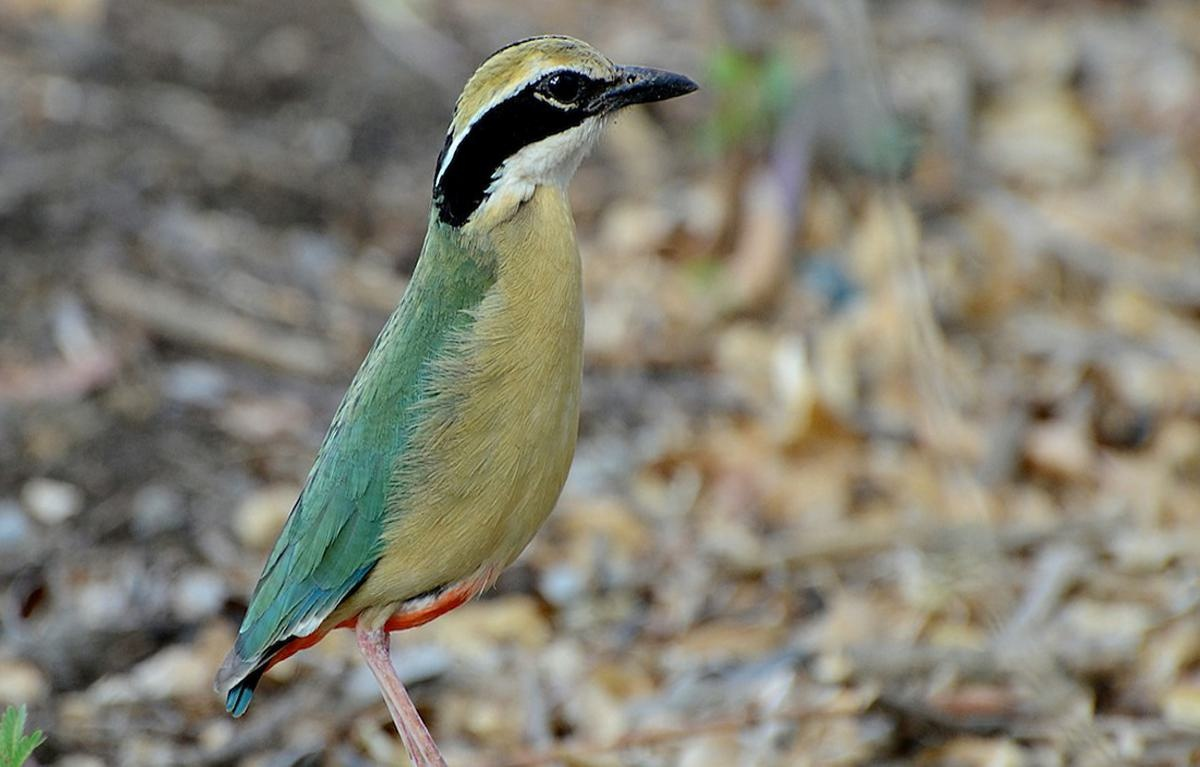pitta: (184, 14, 755, 734)
